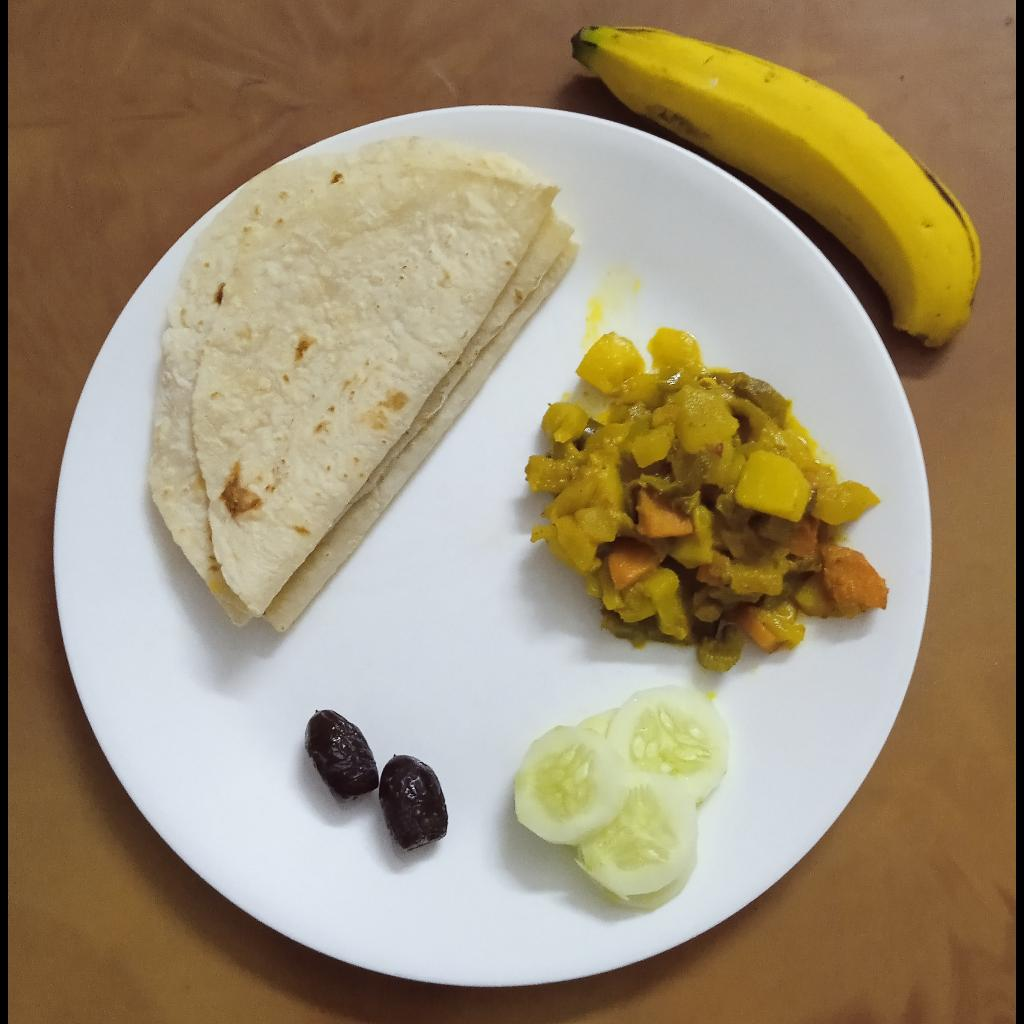banana: (571, 23, 983, 349)
cucumber: (514, 684, 730, 911)
dates: (305, 711, 387, 804), (379, 753, 448, 855)
ruti: (149, 139, 579, 632)
vegetable: (527, 326, 894, 672)
